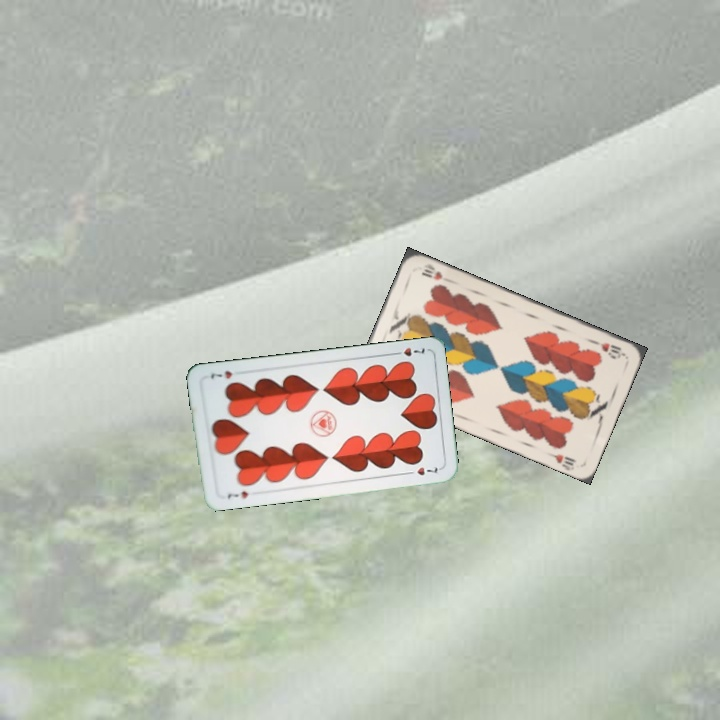H10: (588, 336, 627, 361)
H7: (388, 343, 429, 359), (223, 487, 250, 502)
